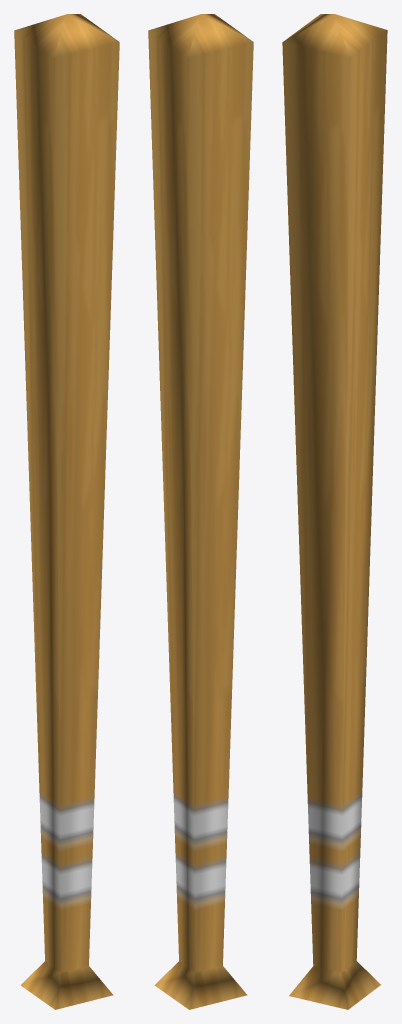
Rendered from BaseballBat.fbx.
The picture shows the model from 3 angles, left to right: view 1: azimuth 30°, elevation 25°; view 2: azimuth 210°, elevation 25°; view 3: azimuth 330°, elevation 25°; orthographic projection.
Parts seen in each view (by area): view 1: Maya_File_Assets:TexturedAssetsCurrent:baseball_bat_01; view 2: Maya_File_Assets:TexturedAssetsCurrent:baseball_bat_01; view 3: Maya_File_Assets:TexturedAssetsCurrent:baseball_bat_01.
Boxes of the visible parts, left/top/right/bottom form: Maya_File_Assets:TexturedAssetsCurrent:baseball_bat_01: left=14, top=14, right=119, bottom=1009; Maya_File_Assets:TexturedAssetsCurrent:baseball_bat_01: left=148, top=14, right=253, bottom=1009; Maya_File_Assets:TexturedAssetsCurrent:baseball_bat_01: left=282, top=14, right=387, bottom=1009.
Bounding box in the file's own units: 0.0696 × 0.965 × 0.0696.
